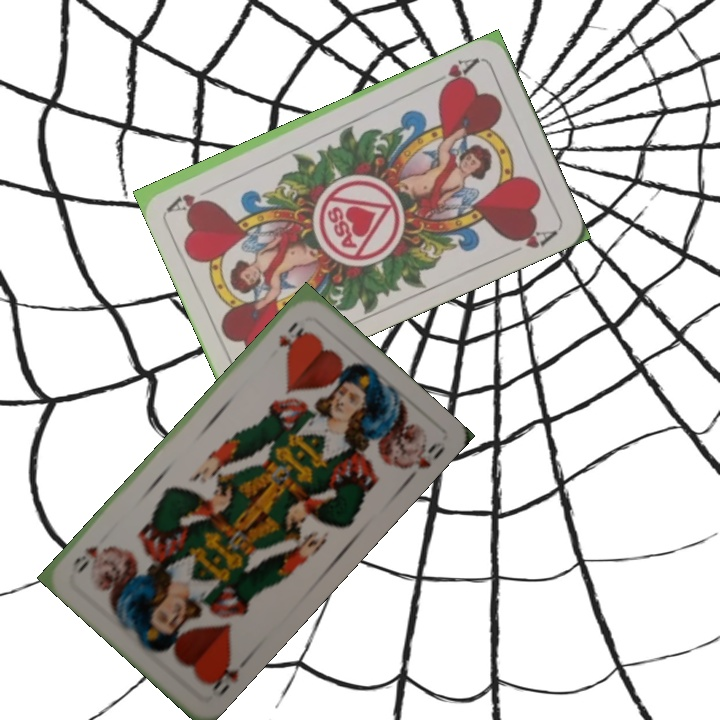HA: (428, 53, 483, 92)
HO: (201, 654, 251, 700), (274, 317, 307, 351)
